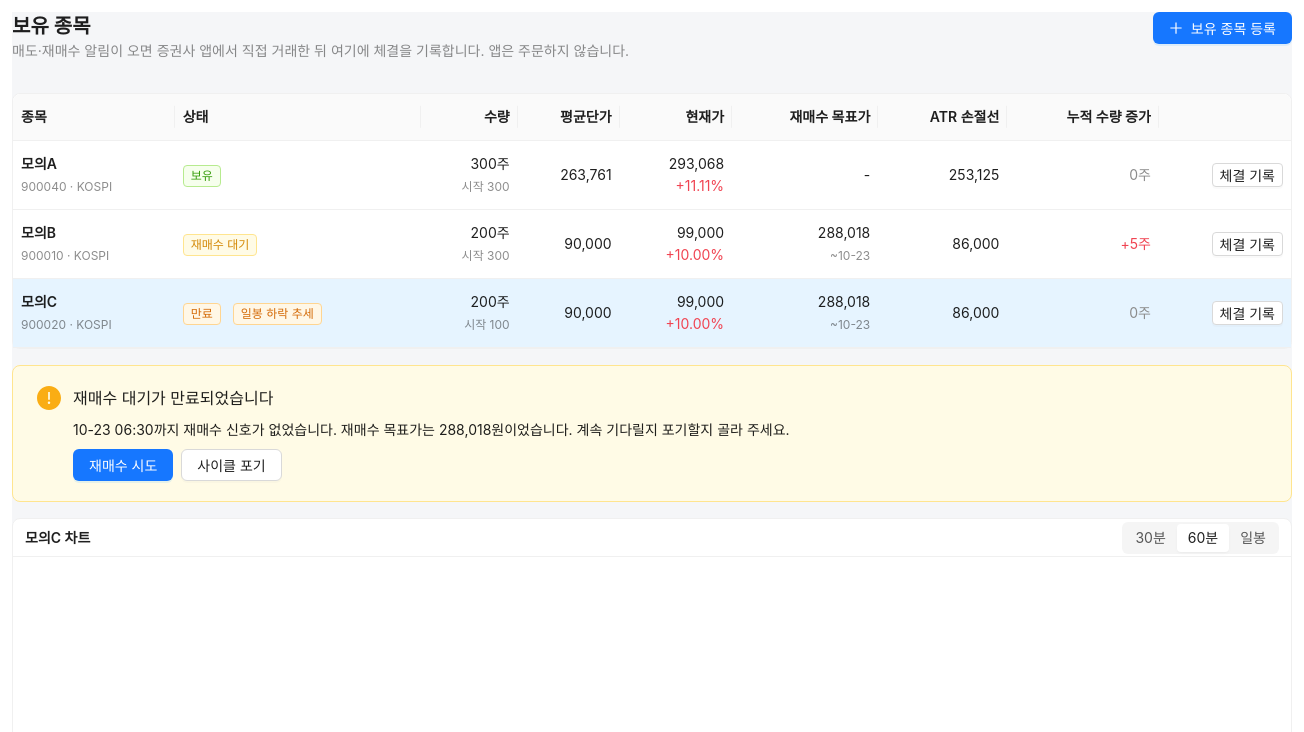
Test: HoldingsPage › expiry › asks what to do about an expired wait, and retries on request
Expected: the text "재매수 대기가 만료되었습니다" is shown, [73, 388, 273, 408]
Click the button "재매수 시도": [123, 465] box [73, 449, 173, 481]
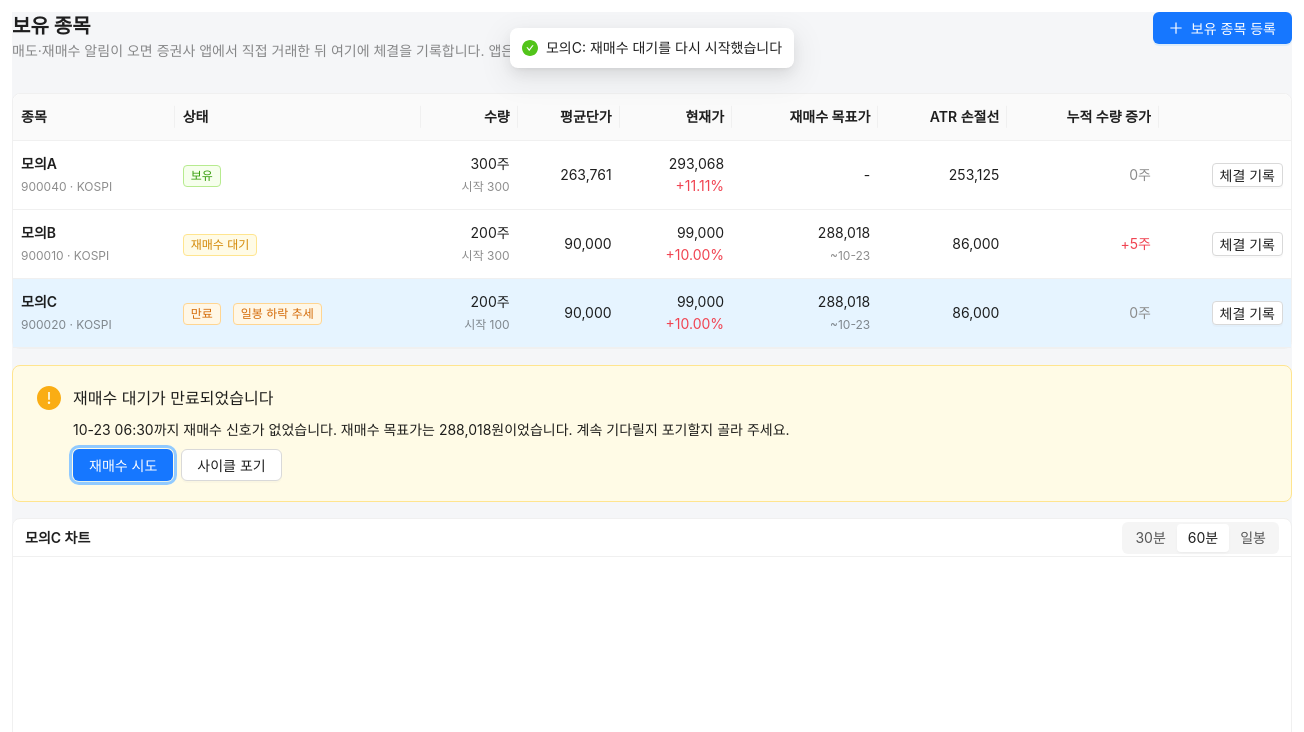
Expected: the text "모의C: 재매수 대기를 다시 시작했습니다" is shown, [546, 37, 782, 59]
